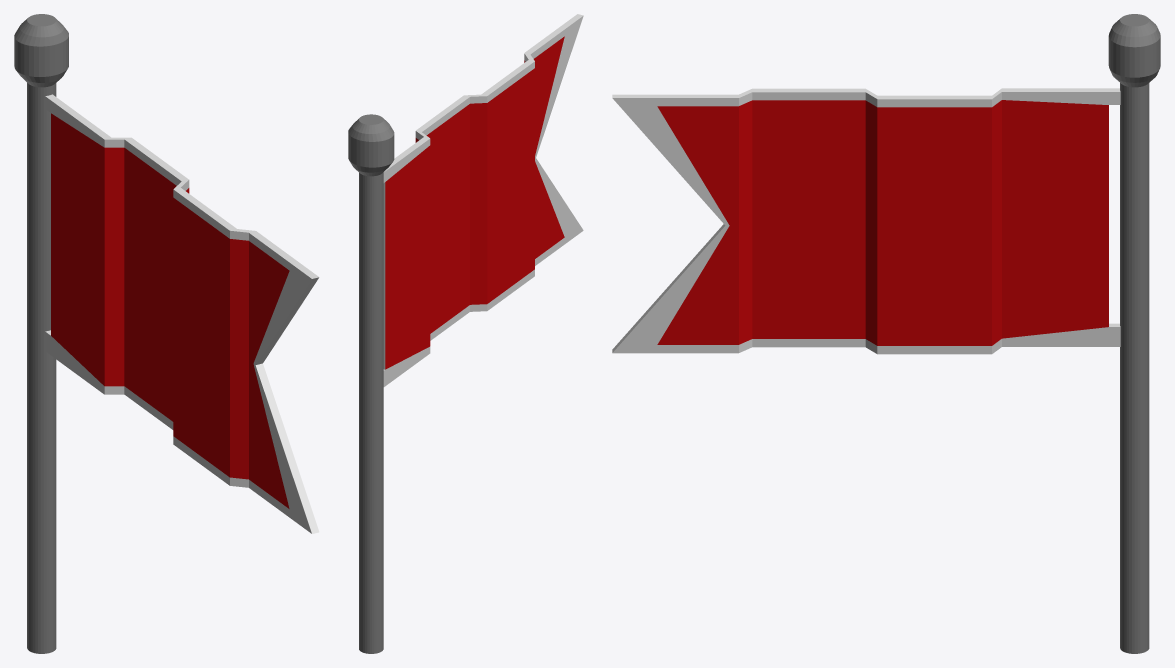
File: Flag.fbx
The picture shows the model from 3 angles, left to right: view 1: azimuth 30°, elevation 25°; view 2: azimuth 150°, elevation 25°; view 3: azimuth 270°, elevation 25°; orthographic projection. The views are drawn at different scales.
Visible parts, largest first — view 1: Cube.001; view 2: Cube.001; view 3: Cube.001.
Part boxes in pixels (x1=…): Cube.001: x1=14, y1=14, x2=319, y2=653; Cube.001: x1=348, y1=14, x2=583, y2=653; Cube.001: x1=612, y1=14, x2=1160, y2=653.
Bounding box in the file's own units: 96.25 × 1194 × 946.
